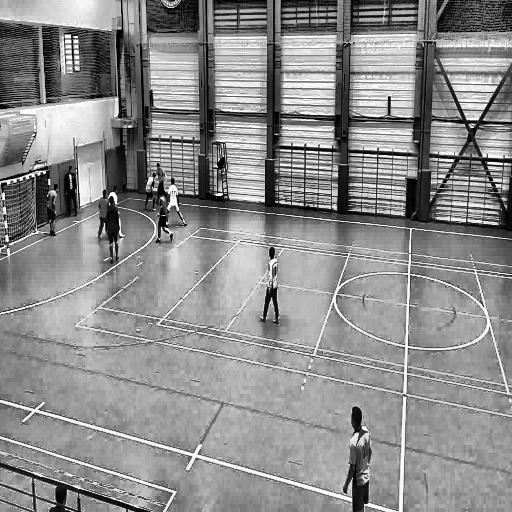player: (342, 405, 373, 512), (257, 244, 282, 328), (164, 176, 188, 229), (105, 195, 120, 266), (154, 190, 172, 247), (64, 164, 80, 221), (46, 181, 60, 241), (110, 184, 123, 237), (96, 190, 109, 243), (141, 173, 157, 213), (154, 161, 166, 206)
